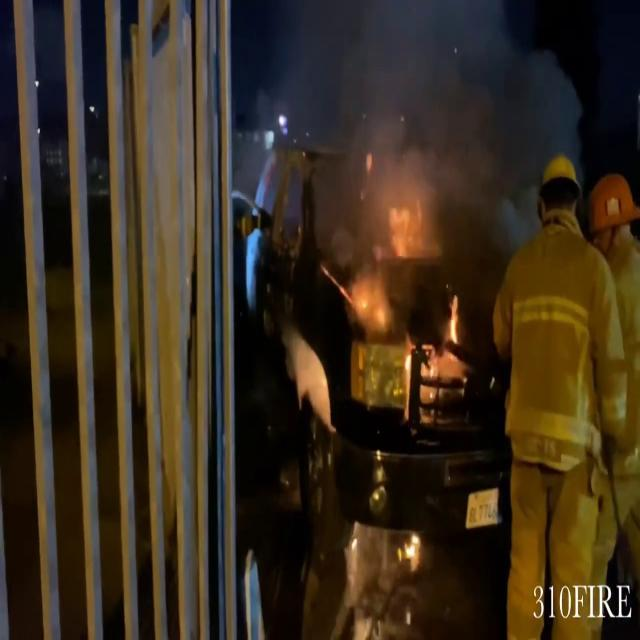Smoke: (266, 0, 560, 262)
